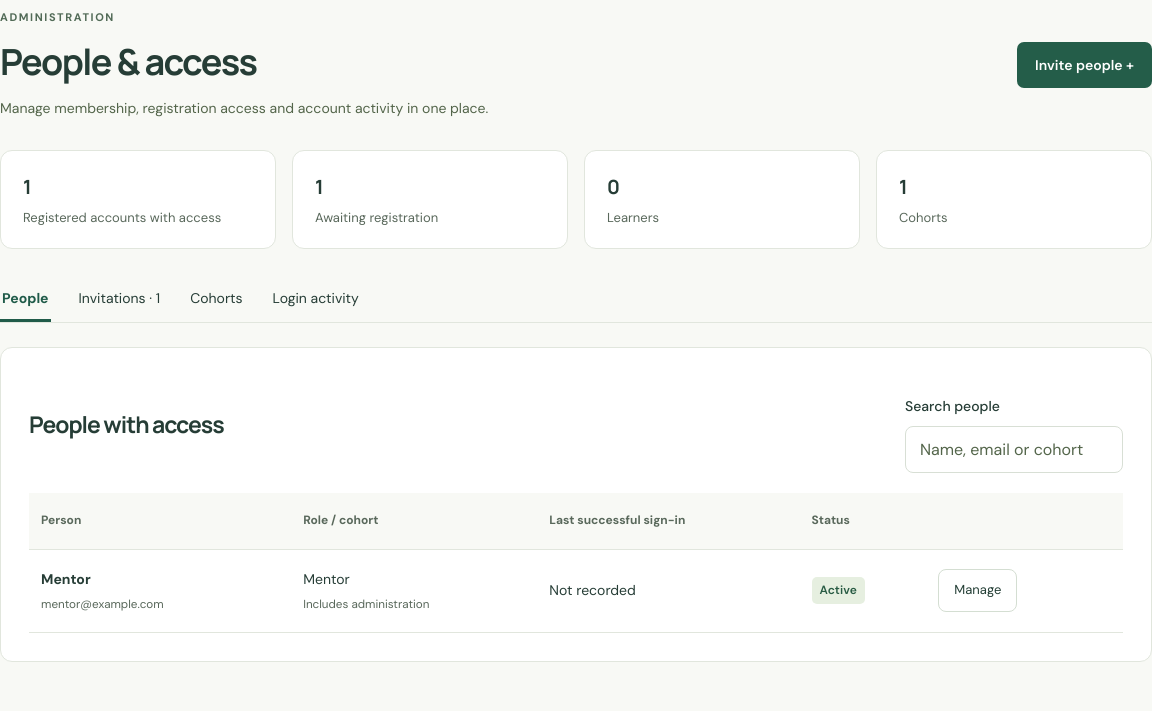
does not offer self-revocation or self role changes
Click the button with aria-label "Manage mentor@example.com" at (978, 591), box [938,569,1017,612]
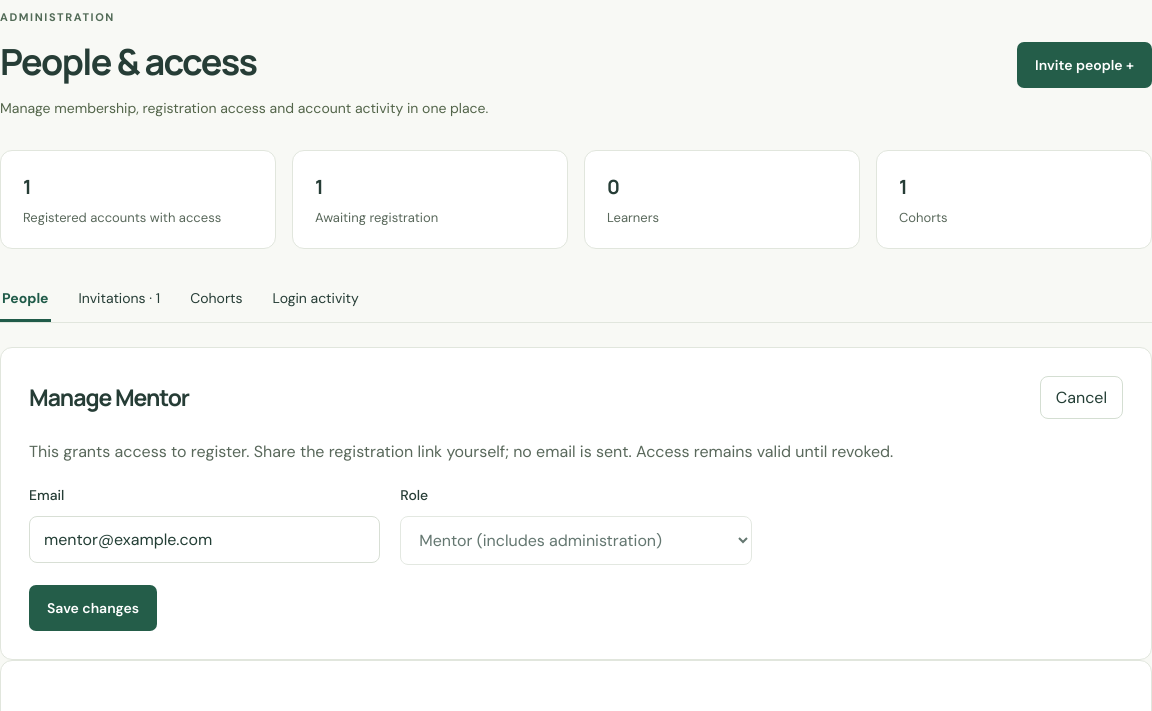
expect the dropdown labelled "Role" is disabled: met, box [400,516,752,565]
